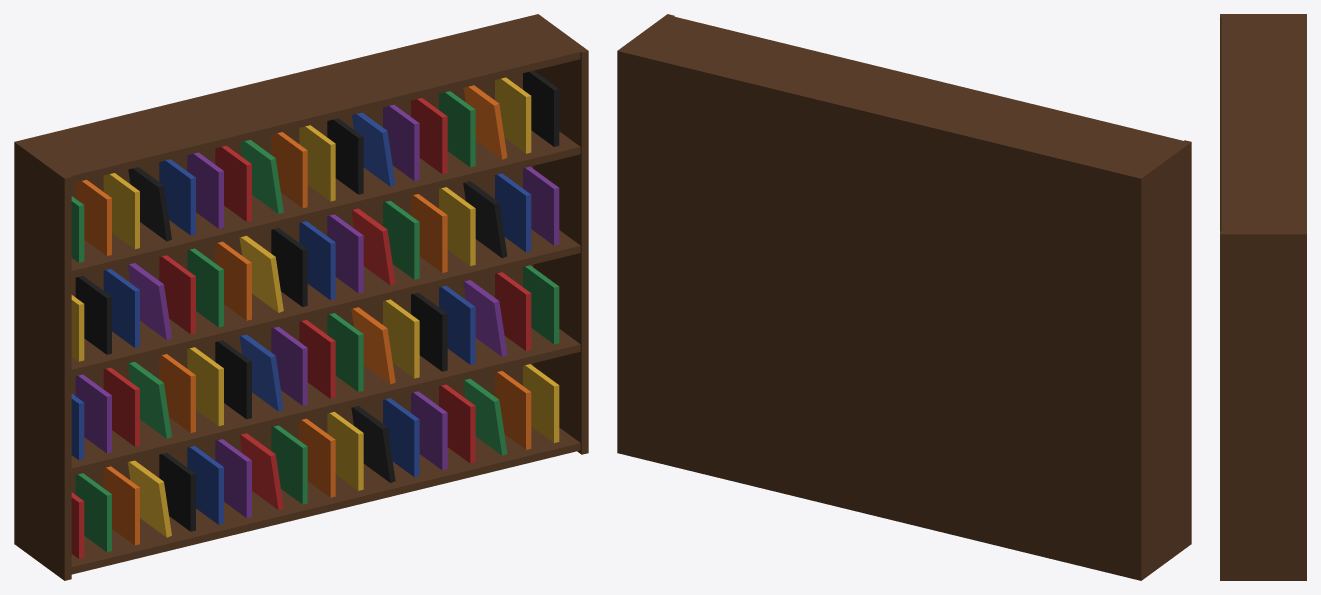
The model's file is record_shelf.glb.
The picture shows the model from 3 angles, left to right: view 1: azimuth 30°, elevation 25°; view 2: azimuth 150°, elevation 25°; view 3: azimuth 270°, elevation 25°; orthographic projection. The views are drawn at different scales.
Parts seen in each view (by area): view 1: boards_shelf_wood, sides_shelf_wood, sleeves_2, sleeves_3, sleeves_6, sleeves_4, sleeves_5, sleeves_1, sleeves_0, back_shelf_wood; view 2: back_shelf_wood, sides_shelf_wood, boards_shelf_wood; view 3: sides_shelf_wood, boards_shelf_wood, back_shelf_wood.
Boxes of the visible parts, x1,y1,x2,y2 form: boards_shelf_wood: (20, 16, 583, 574); sides_shelf_wood: (14, 14, 588, 580); sleeves_2: (71, 77, 559, 537); sleeves_3: (71, 91, 559, 552); sleeves_6: (75, 85, 531, 545); sleeves_4: (75, 104, 559, 517); sleeves_5: (75, 70, 559, 531); sleeves_1: (71, 112, 531, 524); sleeves_0: (71, 98, 531, 558); back_shelf_wood: (14, 14, 539, 524); back_shelf_wood: (617, 49, 1143, 579); sides_shelf_wood: (617, 14, 1191, 580); boards_shelf_wood: (622, 16, 1185, 176); sides_shelf_wood: (1220, 14, 1306, 580); boards_shelf_wood: (1221, 15, 1305, 232); back_shelf_wood: (1303, 14, 1306, 579).
Bounding box in the file's own units: 3 × 2.2 × 0.5.
